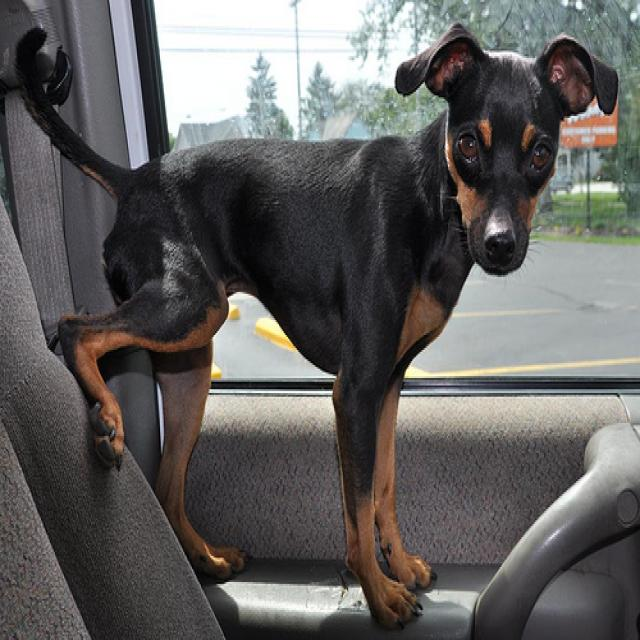dog-miniature_pinscher: (12, 17, 625, 631)
